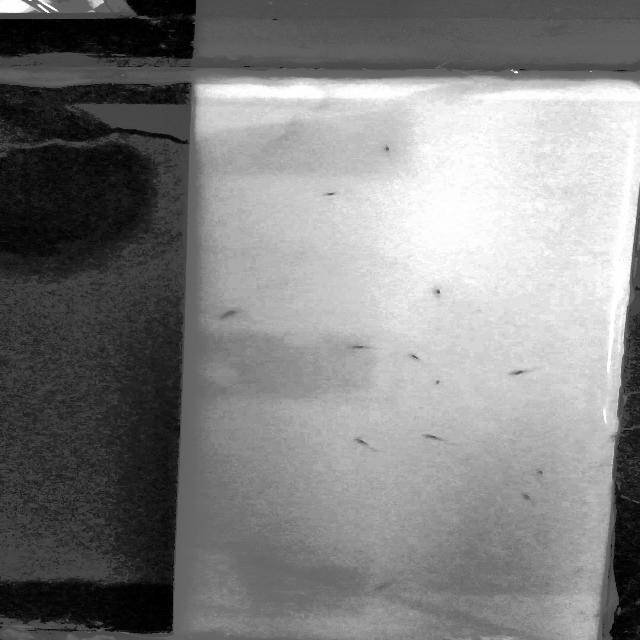shrimp: (367, 578, 410, 594), (503, 362, 542, 379), (420, 428, 456, 444), (358, 435, 386, 453), (514, 489, 538, 504), (216, 310, 244, 322), (524, 467, 552, 479), (428, 283, 450, 298), (341, 344, 375, 353), (400, 352, 430, 362), (322, 188, 342, 197), (378, 143, 397, 152), (437, 377, 448, 391)
